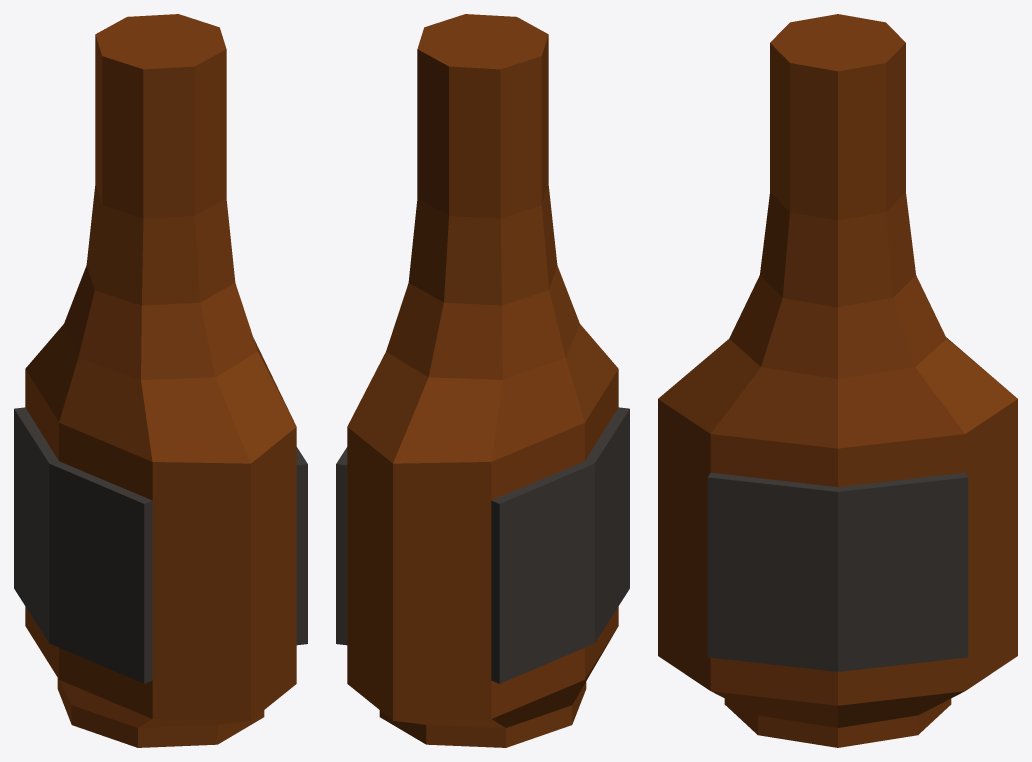
Rendered from Bottle3.fbx.
3 renders of one model, left to right at view 1: azimuth 30°, elevation 25°; view 2: azimuth 150°, elevation 25°; view 3: azimuth 270°, elevation 25°, orthographic.
Visible parts, largest first — view 1: Bottle3; view 2: Bottle3; view 3: Bottle3.
Part boxes in pixels (<box>): Bottle3: <box>14,14,307,747</box>; Bottle3: <box>336,14,629,747</box>; Bottle3: <box>658,14,1017,747</box>.
Bounding box in the file's own units: 0.1433 × 0.4057 × 0.2.
